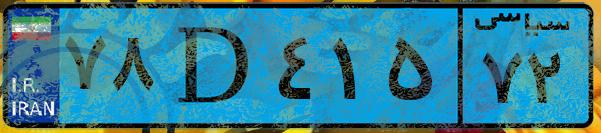1: (330, 28, 385, 110)
2: (525, 38, 570, 115)
4: (270, 28, 330, 110)
5: (385, 28, 445, 110)
7: (57, 26, 110, 100), (475, 38, 525, 113)
8: (110, 28, 158, 98)
D: (158, 12, 270, 120)
